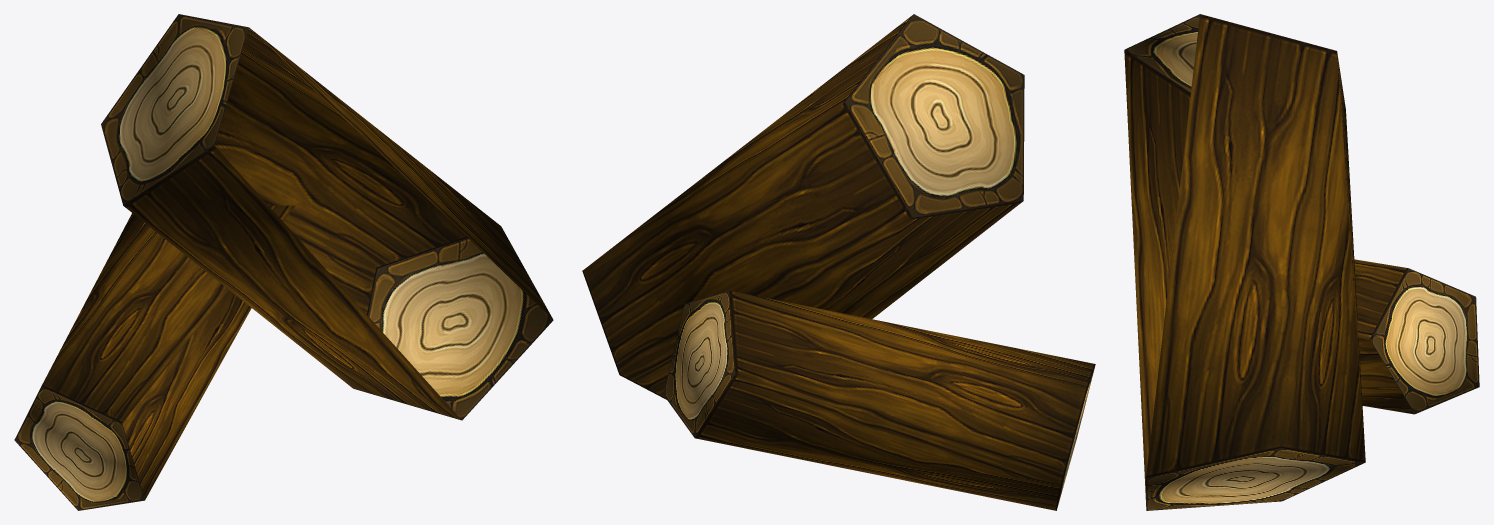
Rendered from Tree Log 03.FBX.
3 renders of one model, left to right at view 1: azimuth 30°, elevation 25°; view 2: azimuth 150°, elevation 25°; view 3: azimuth 270°, elevation 25°, orthographic. The views are drawn at different scales.
Visible parts, largest first — view 1: env_treelog03; view 2: env_treelog03; view 3: env_treelog03.
Boxes of the visible parts, x1=… form: env_treelog03: x1=14, y1=14, x2=553, y2=510; env_treelog03: x1=582, y1=14, x2=1095, y2=510; env_treelog03: x1=1124, y1=14, x2=1479, y2=510.
Bounding box in the file's own units: 112 × 99.77 × 72.35.
